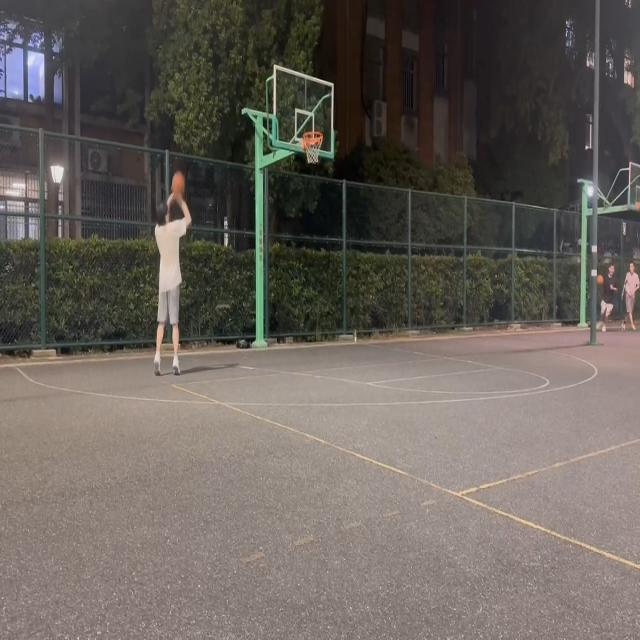basketball: (303, 131, 323, 164)
rim: (171, 170, 186, 200)
